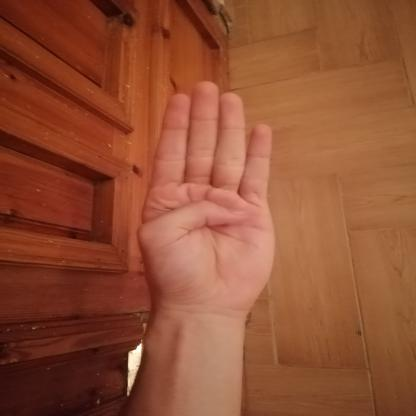KAAF: (124, 70, 294, 330)
